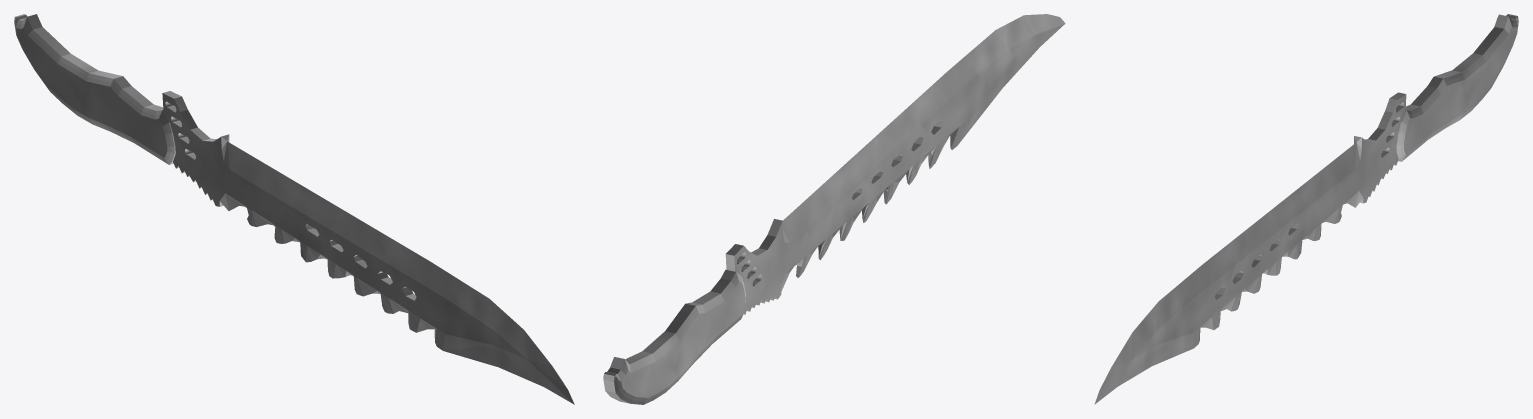
File: model_scale.obj
3 renders of one model, left to right at view 1: azimuth 30°, elevation 25°; view 2: azimuth 150°, elevation 25°; view 3: azimuth 330°, elevation 25°, orthographic. The views are drawn at different scales.
Visible parts, largest first — view 1: mesh1_mesh1-geometry; view 2: mesh1_mesh1-geometry; view 3: mesh1_mesh1-geometry.
Part boxes in pixels (x1=…): mesh1_mesh1-geometry: x1=14, y1=14, x2=574, y2=404; mesh1_mesh1-geometry: x1=603, y1=14, x2=1065, y2=404; mesh1_mesh1-geometry: x1=1094, y1=14, x2=1518, y2=404.
Size of the model in its own units: 0.0168 by 0.0219 by 0.2349.
